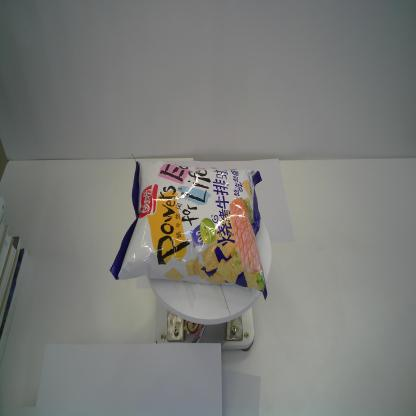Puffed Food: (108, 153, 267, 304)
